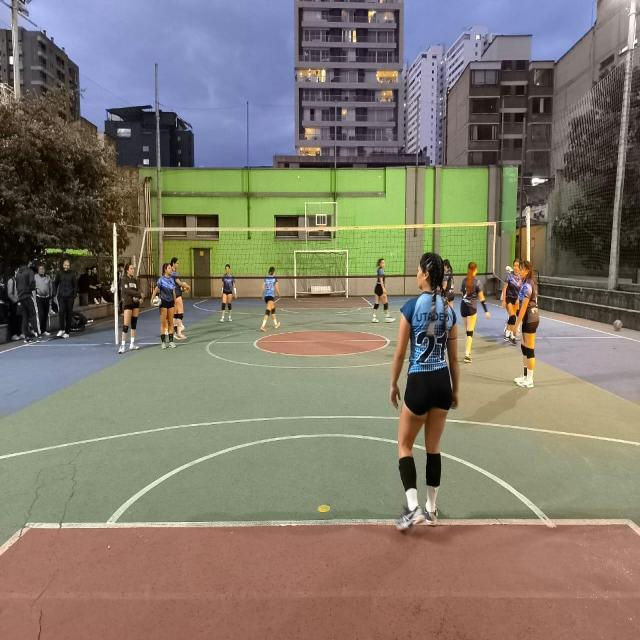volleyball: (151, 296, 161, 306)
